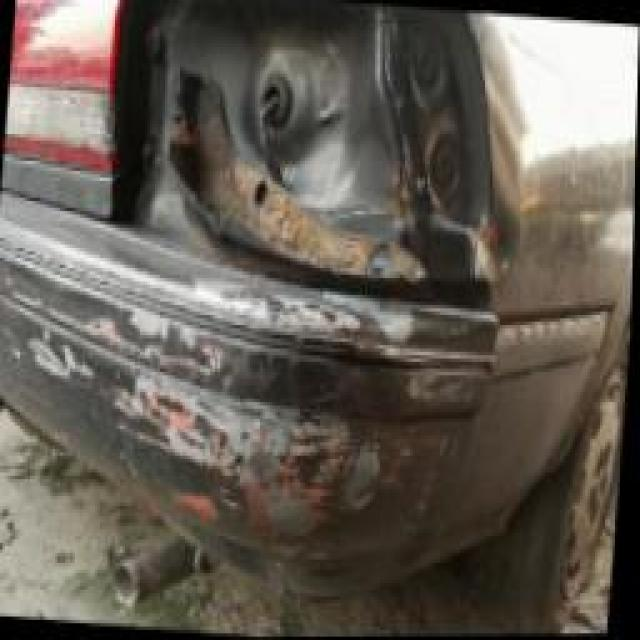Bumper: (0, 211, 487, 590)
Light: (118, 0, 486, 274)
